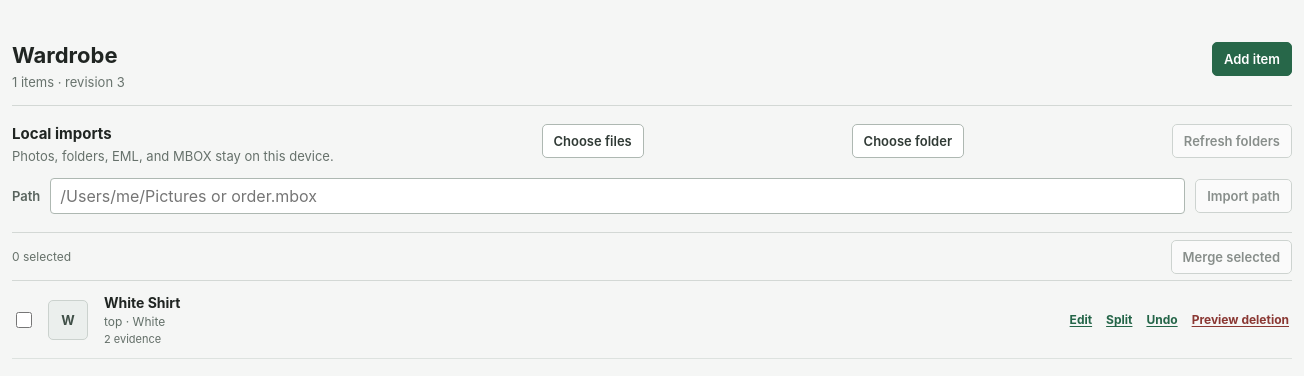
P02 workspace › reports a native chooser failure without starting an import
The width and height of the screenshot is (1304, 376).
What coordinates should you click on to do the following:
click the button "Choose files"
I would click on:
 (593, 141)
Its box is [542,124,644,158].
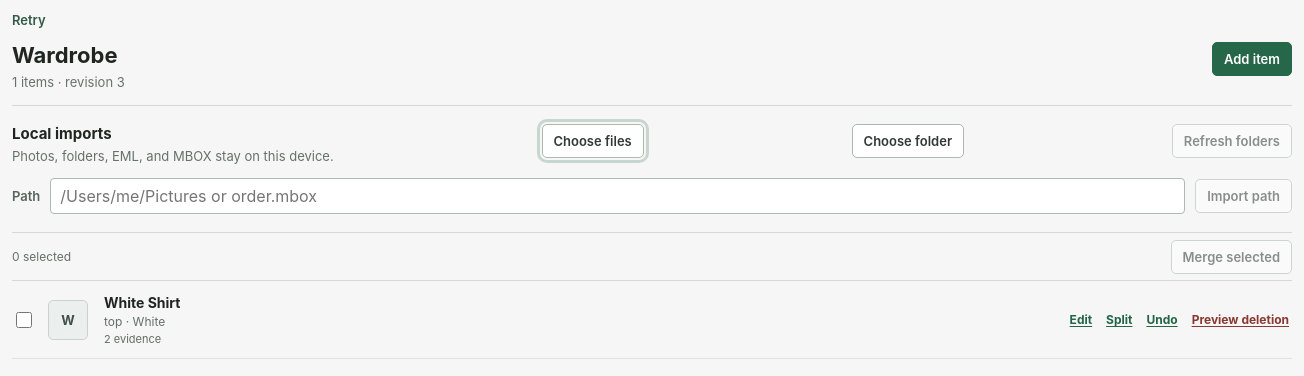
Check: the text "Retry" is shown, box [12,12,46,28]
